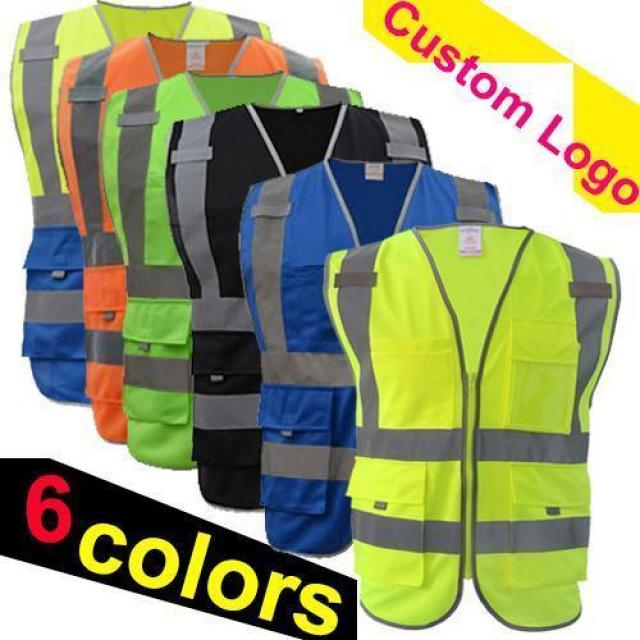vest: (320, 224, 618, 628), (54, 36, 325, 445), (165, 105, 434, 509), (96, 69, 362, 471), (8, 6, 272, 404), (238, 163, 506, 554)
